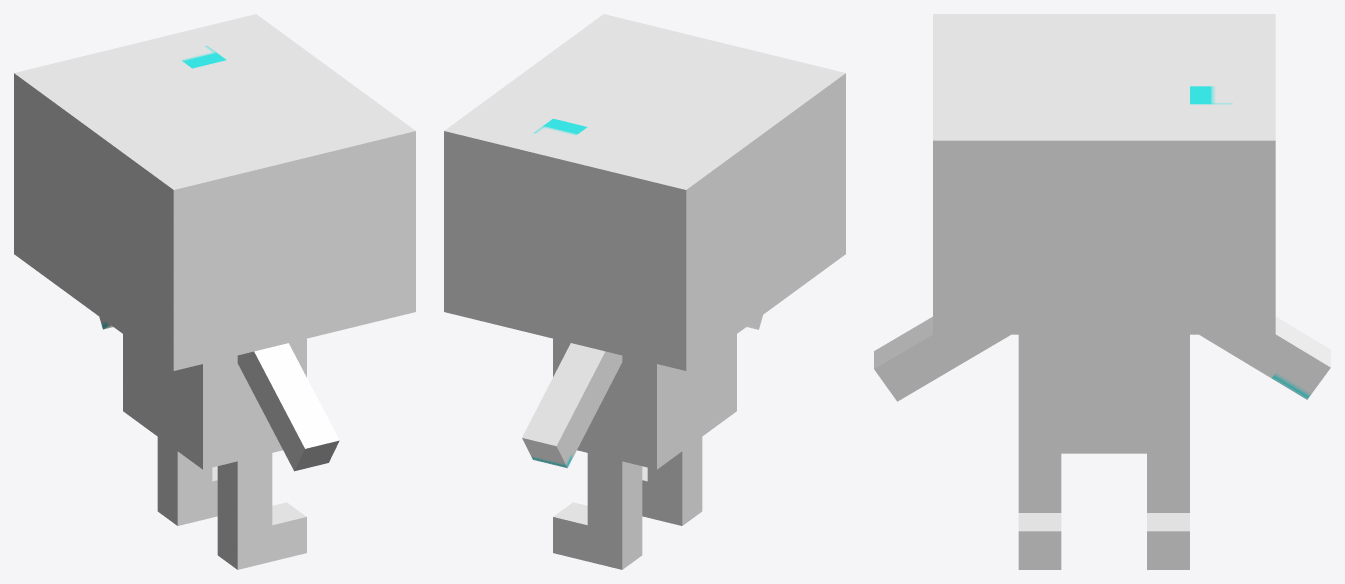
Rendered from Voxel_Human.gltf.
The picture shows the model from 3 angles, left to right: view 1: azimuth 30°, elevation 25°; view 2: azimuth 150°, elevation 25°; view 3: azimuth 270°, elevation 25°; orthographic projection. The views are drawn at different scales.
Parts seen in each view (by area): view 1: Body.204; view 2: Body.204; view 3: Body.204.
Boxes of the visible parts, x1=… form: Body.204: x1=14, y1=14, x2=415, y2=569; Body.204: x1=444, y1=14, x2=845, y2=569; Body.204: x1=874, y1=14, x2=1330, y2=569.
Size of the model in its own units: 1.4 by 2.4 by 2.13.
